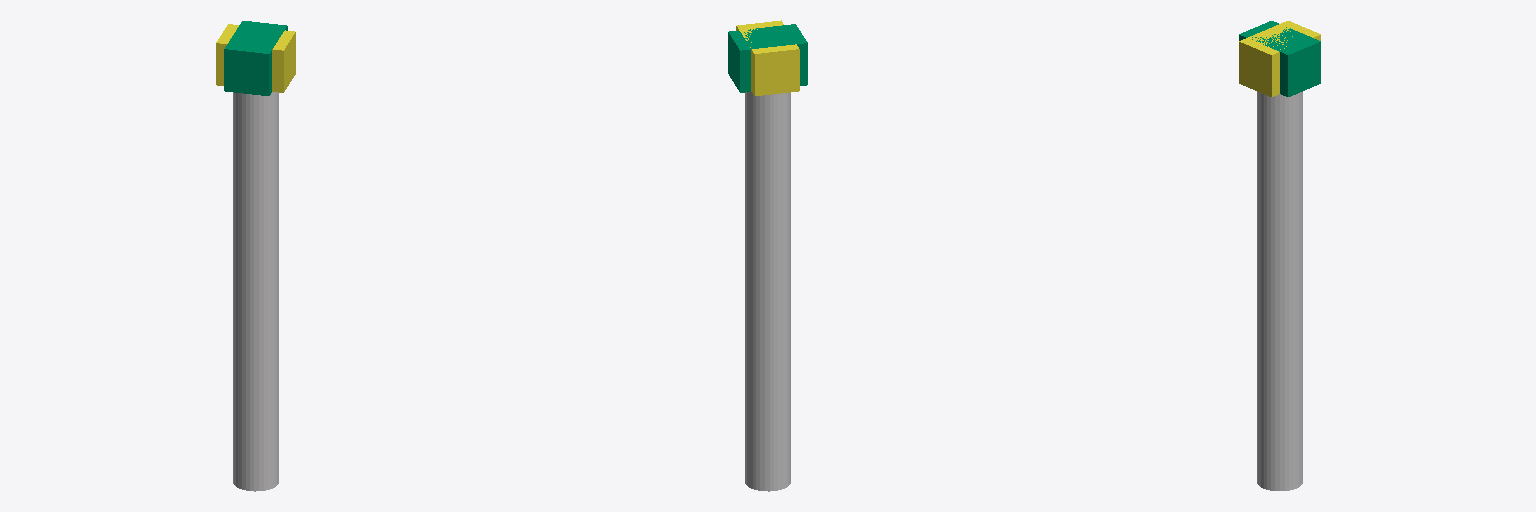
URDF robot description (camera_left):
<?xml version="1.0" encoding="utf-8"?>
<robot
  name="camera_left">

  <link name="world" />

  <joint name="base_joint" type="fixed">
    <parent link="world"/>
    <child link="body" />
    <origin xyz="0 0 0.010" rpy="0 0 0"/>
  </joint>

  <link name="body">
    <inertial>
      <origin
        xyz="0 0 0.5"
        rpy="0 0 0" />
      <mass
        value="1" />
      <inertia
        ixx="0.003958333"
        ixy="0"
        ixz="0"
        iyy="0.003958333"
        iyz="0"
        izz="0.02" />
    </inertial>
    
    <visual>
      <origin
          xyz="0 0 0.5"
          rpy="0 0 0" />
      <geometry>
        <cylinder length="1" radius="0.05"/>
      </geometry>
      <material
        name="">
        <color
          rgba="0.84706 0.83922 0.83922 1" />
      </material>
    </visual>

    <collision>
      <origin
        xyz="0 0 0.5"
        rpy="0 0 0" />
      <geometry>
        <cylinder length="1" radius="0.05"/>
      </geometry>
    </collision>
    </link>


    <joint name="camera_joint_0" type="fixed">
        <origin xyz="0 0 1" rpy="0 0 2.355"/>
        <parent link="body"/>
        <child link="camera_link_0"/>
    </joint>


    <link name="camera_link_0">
        <visual>
            <origin xyz="0 0 0" rpy="0 0 0"/>
            <geometry>
                <box size="0.1 0.15 0.1" />
            </geometry>
        </visual>
        <collision>
            <origin xyz="0.003 0.065 0.007" rpy="0 0 0"/>
            <geometry>
                <box size="0.012 0.132 0.020"/>
            </geometry>
        </collision>   

    </link>

    <joint name="camera_joint_1" type="fixed">
        <origin xyz="0 0 1" rpy="0 0 0.785398"/>
        <parent link="body"/>
        <child link="camera_link_1"/>
    </joint>

    <link name="camera_link_1">
        <visual>
            <origin xyz="0 0 0" rpy="0 0 0"/>
            <geometry>
                <box size="0.1 0.15 0.1" />
            </geometry>
        </visual>


    </link>
    <!--gazebo reference="body">
        <mu1>1</mu1>
        <mu2>1</mu2>
        <fdir1>1 0 0</fdir1>
        <kp>1e+13</kp>
        <kd>1</kd>
        <maxVel>0</maxVel>
        <minDepth>0.0000001</minDepth>
        <gravity>1</gravity>
        <material>Gazebo/Grey</material>
    </gazebo-->

    <!--gazebo reference="camera_link_0">
        <sensor type="camera" name="camera_left_0">
        <update_rate>20</update_rate>
            <camera name="head">
                <horizontal_fov>1.5708</horizontal_fov>
                <image>
                <width>640</width>
                <height>320</height>
                <format>R8G8B8</format>
                </image>
            </camera>        
            <plugin name="camera_controller" filename="libgazebo_ros_camera.so">
                <alwaysOn>true</alwaysOn>
                <updateRate>0.0</updateRate>
                <cameraName>camera_left_0</cameraName>
                <imageTopicName>image_raw</imageTopicName>
                <cameraInfoTopicName>camera_info</cameraInfoTopicName>
                <frameName>camera_link_0</frameName>
                <hackBaseline>0.07</hackBaseline>
                <distortionK1>0.0</distortionK1>
                <distortionK2>0.0</distortionK2>
                <distortionK3>0.0</distortionK3>
                <distortionT1>0.0</distortionT1>
                <distortionT2>0.0</distortionT2>
            </plugin>
        </sensor>
    </gazebo-->

    <gazebo reference="camera_link_0">
      <sensor name="camera_left_0" type="depth">
        <update_rate>0</update_rate>
        <camera>
          <horizontal_fov>1.50098</horizontal_fov>
          <vertical_fov>0.7417649</vertical_fov>
          <image>
            <width>640</width>
            <height>360</height>
            <format>R8G8B8</format>
          </image>
          <clip>
            <near>0.1</near>
            <far>100</far>
          </clip>
        </camera>
        <plugin name="camera_left_0_controller" filename="libgazebo_ros_openni_kinect.so">
          <baseline>0.05</baseline>
          <alwaysOn>true</alwaysOn>
          <update_rate>0</update_rate>
          <cameraName>camera_left_0_ir</cameraName>
          <imageTopicName>camera_left_0/color/image_raw</imageTopicName>
          <cameraInfoTopicName>/camera_left_0/color/camera_info</cameraInfoTopicName>
          <depthImageTopicName>/camera_left_0/depth/image_raw</depthImageTopicName>
          <depthImageInfoTopicName>/camera_left_0/depth/camera_info</depthImageInfoTopicName>
          <pointCloudTopicName>/camera_left_0/depth/points</pointCloudTopicName>
          <frameName>camera_link_0</frameName>
          <pointCloudCutoff>0.1</pointCloudCutoff>
          <pointCloudCutoffMax>15.0</pointCloudCutoffMax>
          <distortionK1>0.00000001</distortionK1>
          <distortionK2>0.00000001</distortionK2>
          <distortionK3>0.00000001</distortionK3>
          <distortionT1>0.00000001</distortionT1>
          <distortionT2>0.00000001</distortionT2>
          <CxPrime>0</CxPrime>
          <Cx>320</Cx>
          <Cy>180</Cy>
          <focalLength>343.159073</focalLength>
          <hackBaseline>0</hackBaseline>
        </plugin>
      </sensor>
    </gazebo>


    <!--gazebo reference="camera_link_1">
        <sensor type="camera" name="camera_left_1">
        <update_rate>20</update_rate>
            <camera name="head">
                <horizontal_fov>1.3962634</horizontal_fov>
                <image>
                <width>640</width>
                <height>320</height>
                <format>R8G8B8</format>
                </image>
            </camera>        
            <plugin name="camera_controller" filename="libgazebo_ros_camera.so">
                <alwaysOn>true</alwaysOn>
                <updateRate>0.0</updateRate>
                <cameraName>camera_left_1</cameraName>
                <imageTopicName>image_raw</imageTopicName>
                <cameraInfoTopicName>camera_info</cameraInfoTopicName>
                <frameName>camera_link_1</frameName>
                <hackBaseline>0.07</hackBaseline>
                <distortionK1>0.0</distortionK1>
                <distortionK2>0.0</distortionK2>
                <distortionK3>0.0</distortionK3>
                <distortionT1>0.0</distortionT1>
                <distortionT2>0.0</distortionT2>
            </plugin>
        </sensor>
    </gazebo-->

    <gazebo reference="camera_link_1">
      <sensor name="camera_link_1" type="depth">
        <update_rate>0</update_rate>
        <camera>
          <horizontal_fov>1.3962634</horizontal_fov>
          <image>
            <width>640</width>
            <height>360</height>
            <format>R8G8B8</format>
          </image>
          <clip>
            <near>0.1</near>
            <far>100</far>
          </clip>
        </camera>
        <plugin name="camera_left_1_controller" filename="libgazebo_ros_openni_kinect.so">
          <baseline>0.2</baseline>
          <alwaysOn>true</alwaysOn>
          <update_rate>0</update_rate>
          <cameraName>camera_left_1_ir</cameraName>
          <imageTopicName>camera_left_1/color/image_raw</imageTopicName>
          <cameraInfoTopicName>/camera_left_1/color/camera_info</cameraInfoTopicName>
          <depthImageTopicName>/camera_left_1/depth/image_raw</depthImageTopicName>
          <depthImageInfoTopicName>/camera_left_q/depth/camera_info</depthImageInfoTopicName>
          <pointCloudTopicName>/camera_left_1/depth/points</pointCloudTopicName>
          <frameName>camera_link_1</frameName>
          <pointCloudCutoff>0.5</pointCloudCutoff>
          <pointCloudCutoffMax>20.0</pointCloudCutoffMax>
          <distortionK1>0.00000001</distortionK1>
          <distortionK2>0.00000001</distortionK2>
          <distortionK3>0.00000001</distortionK3>
          <distortionT1>0.00000001</distortionT1>
          <distortionT2>0.00000001</distortionT2>
          <CxPrime>0</CxPrime>
          <Cx>320</Cx>
          <Cy>180</Cy>
          <focalLength>0</focalLength>
          <hackBaseline>0</hackBaseline>
        </plugin>
      </sensor>
    </gazebo>



</robot>

--- What the picture shows (computed from the rendered views, not written in the file) ---
3 views of the same robot in one strip: view 1: azimuth 30°, elevation 25°; view 2: azimuth 150°, elevation 25°; view 3: azimuth 270°, elevation 25° (orthographic).
Model camera_left with 4 links and 3 joints (3 fixed), rooted at world, posed all joints at 0.
Visible links, largest first — view 1: body, camera_link_0, camera_link_1; view 2: body, camera_link_0, camera_link_1; view 3: body, camera_link_0, camera_link_1.
Boxes of the visible links, <box> form: body: <box>233,92,278,491</box>; camera_link_0: <box>224,21,287,95</box>; camera_link_1: <box>216,24,295,92</box>; body: <box>745,92,790,491</box>; camera_link_0: <box>728,24,807,92</box>; camera_link_1: <box>736,20,799,95</box>; body: <box>1257,92,1302,490</box>; camera_link_0: <box>1239,21,1320,96</box>; camera_link_1: <box>1239,21,1320,96</box>.
Bounding box of the posed robot: 0.1768 × 0.1768 × 1.05 m (x, y, z).
Geometry: primitives only (box / cylinder / sphere), no mesh files.
